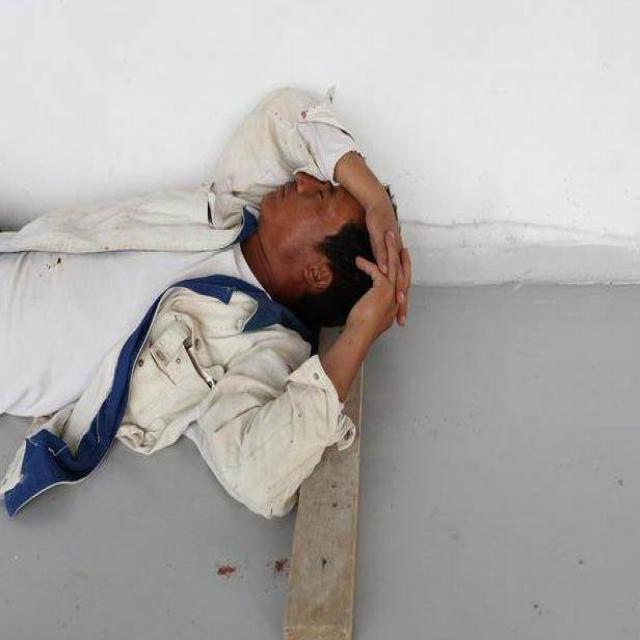fall: (1, 89, 396, 474)
